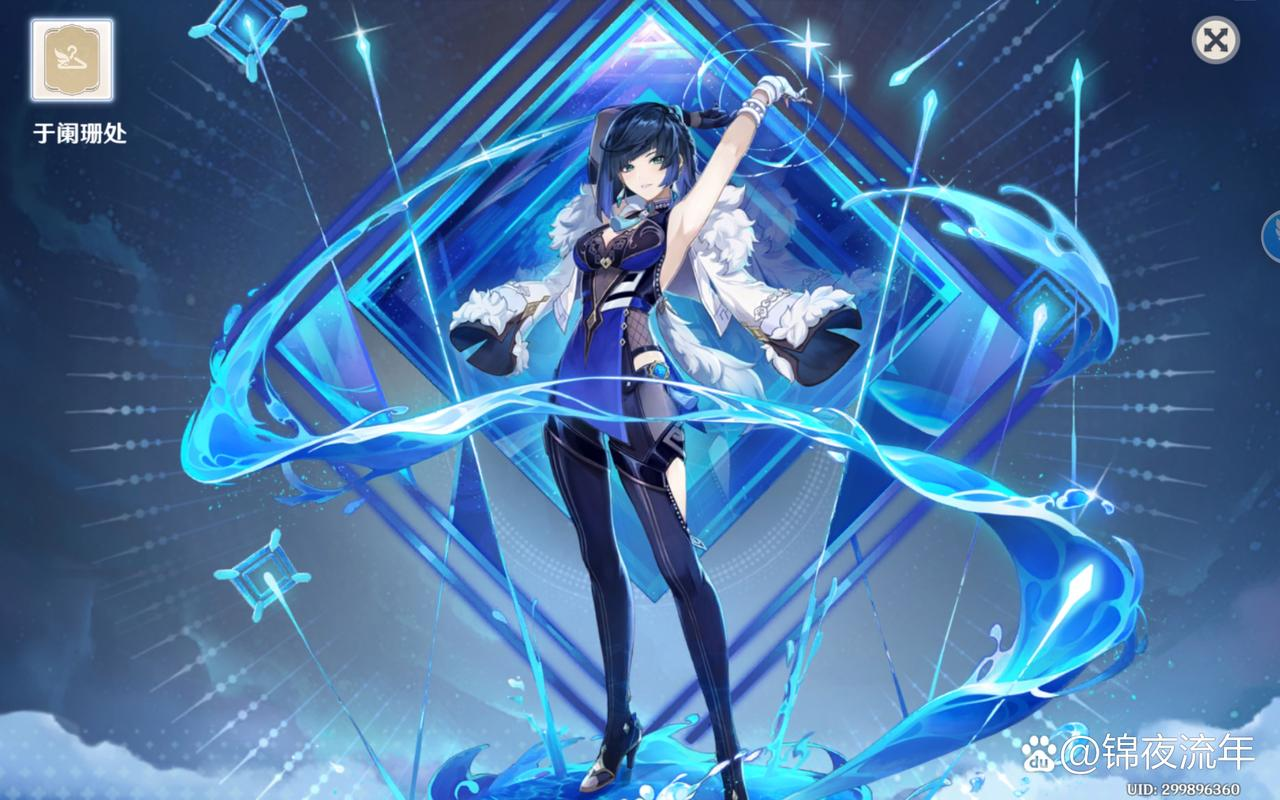夜兰: (540, 73, 816, 800)
